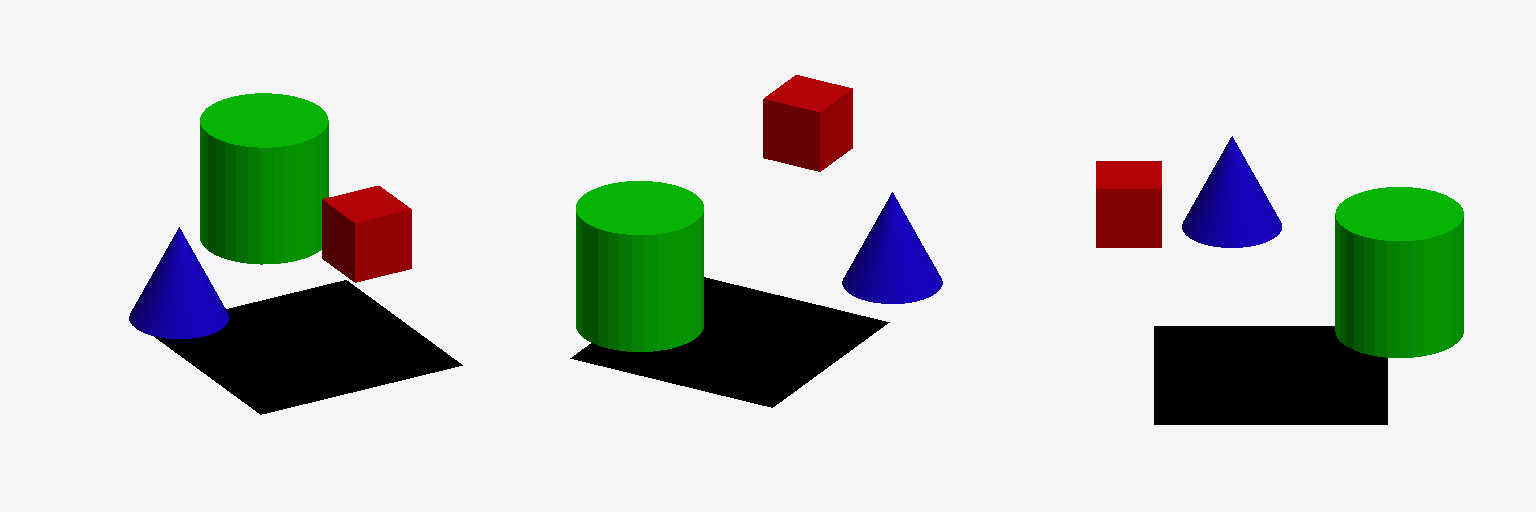
The model's file is objetos.obj.
The picture shows the model from 3 angles: view 1: azimuth 30°, elevation 25°; view 2: azimuth 150°, elevation 25°; view 3: azimuth 270°, elevation 25°; orthographic projection.
Visible parts, largest first — view 1: Plano, Cilindro, Cubo, Cone; view 2: Cilindro, Plano, Cubo, Cone; view 3: Plano, Cilindro, Cone, Cubo.
Boxes of the visible parts, box(x1,y1,x2,y2) form: Plano: box(154, 280, 462, 414); Cilindro: box(200, 93, 328, 264); Cubo: box(322, 186, 411, 282); Cone: box(129, 227, 229, 338); Cilindro: box(576, 181, 703, 351); Plano: box(570, 277, 889, 407); Cubo: box(763, 75, 852, 171); Cone: box(842, 192, 942, 303); Plano: box(1154, 326, 1387, 424); Cilindro: box(1335, 187, 1463, 357); Cone: box(1182, 136, 1281, 247); Cubo: box(1096, 161, 1161, 247).
Size of the model in its own units: 868 by 566 by 960.